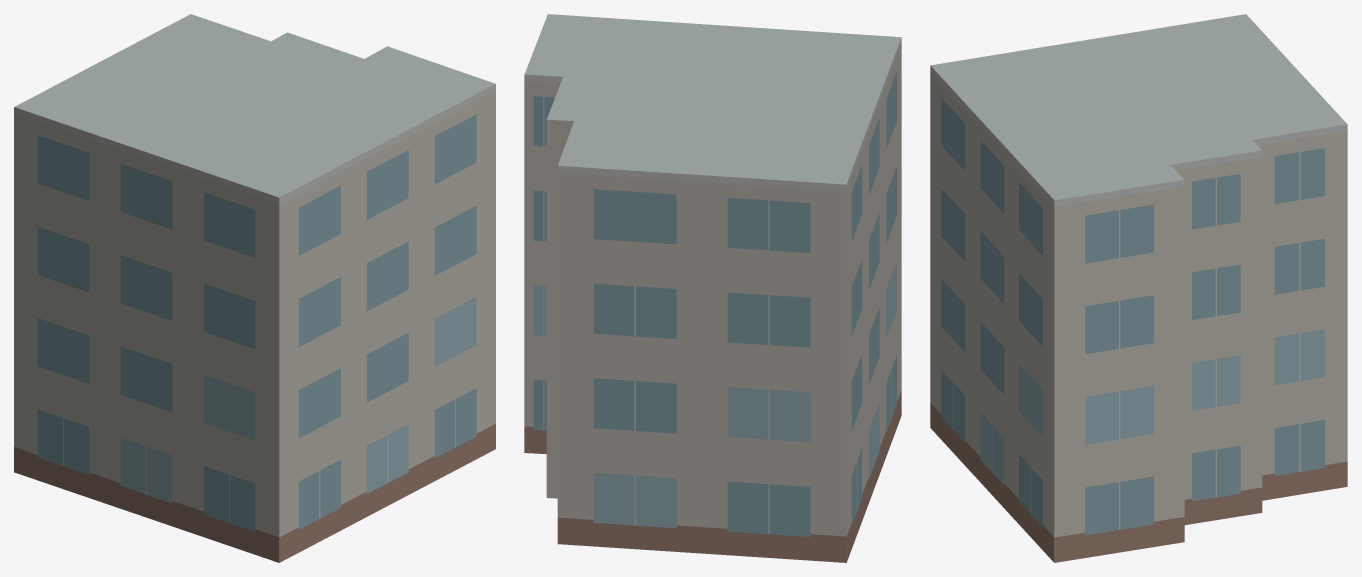
The model's file is survey-upis-32857414.glb.
3 renders of one model, left to right at view 1: azimuth 30°, elevation 25°; view 2: azimuth 150°, elevation 25°; view 3: azimuth 270°, elevation 25°, orthographic. The views are drawn at different scales.
Parts seen in each view (by area): view 1: survey-upis-32857414.tmp; view 2: survey-upis-32857414.tmp; view 3: survey-upis-32857414.tmp.
Boxes of the visible parts, x1,y1,x2,y2 form: survey-upis-32857414.tmp: [14, 14, 495, 562]; survey-upis-32857414.tmp: [524, 14, 901, 562]; survey-upis-32857414.tmp: [930, 14, 1347, 562].
Size of the model in its own units: 15.12 by 13.7 by 14.3.
